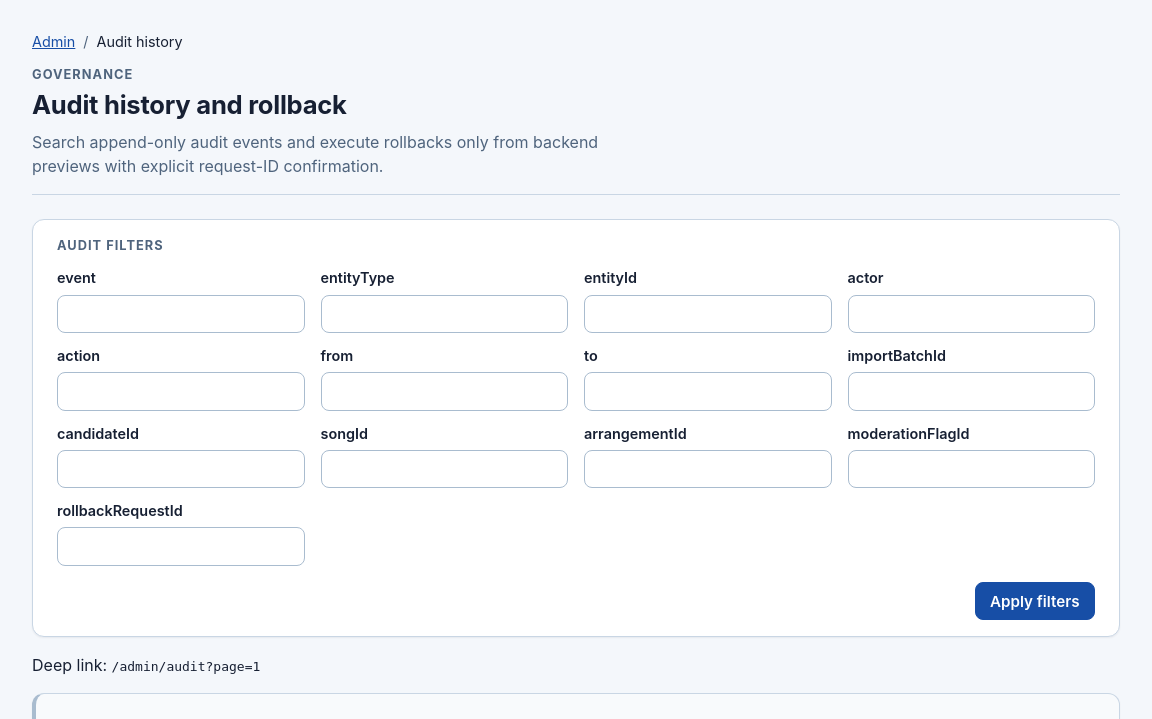
audit history and rollback workflows › creates backend rollback previews and gates execution by exact rollback request id
Type "x" into the field labelled "event". click: (181, 314)
box: [57,295,304,333]
(page scrolled)
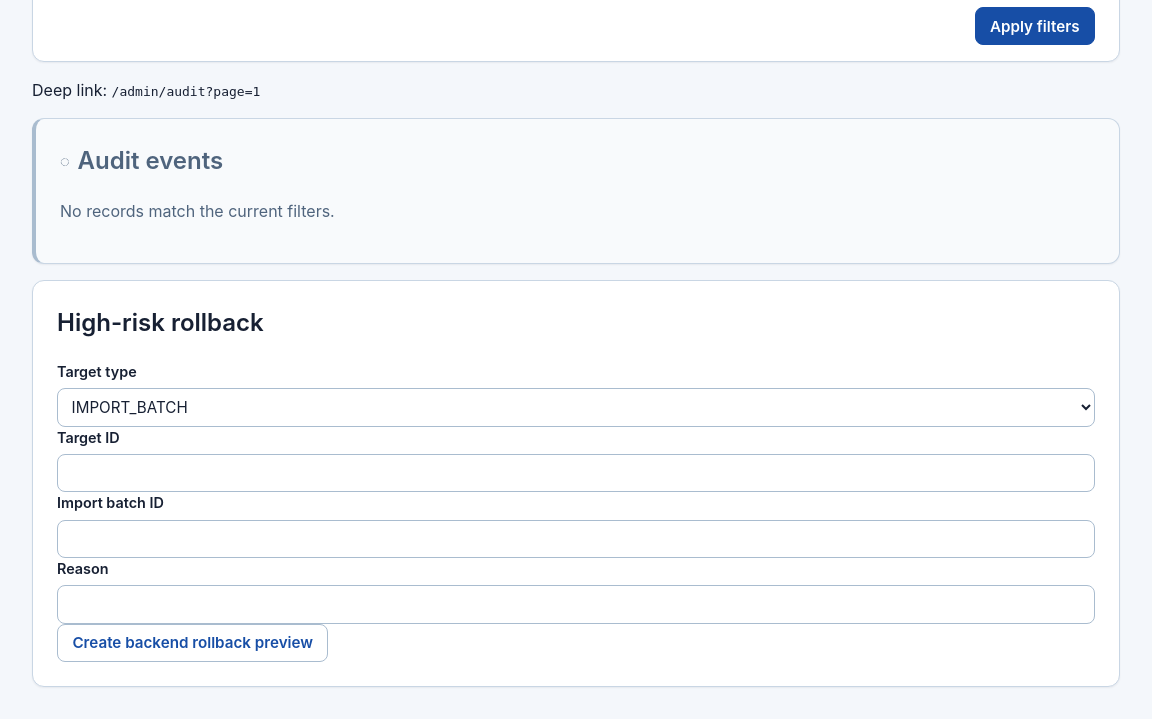
Click the button "Create backend rollback preview". click: (193, 643)
box: [57,624,328,662]
(page scrolled)
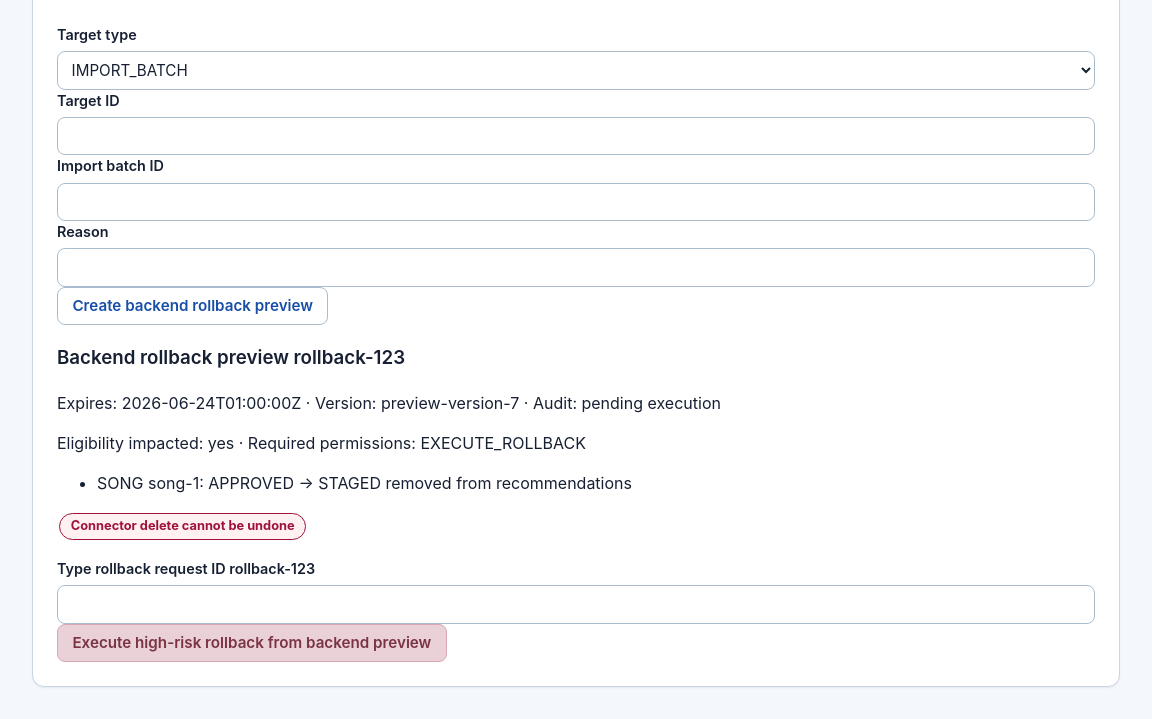
Result: the text "Backend rollback preview rollback-123" is shown at [57,346,405,369]
Result: the text "removed from recommendations" is shown at [386,473,632,493]
Result: the button "Execute high-risk rollback from backend preview" is disabled at [57,624,447,662]
Type "rollback-123" into the field labelled "Type rollback request ID rollback-123". click: (576, 604)
box: [57,585,1095,624]
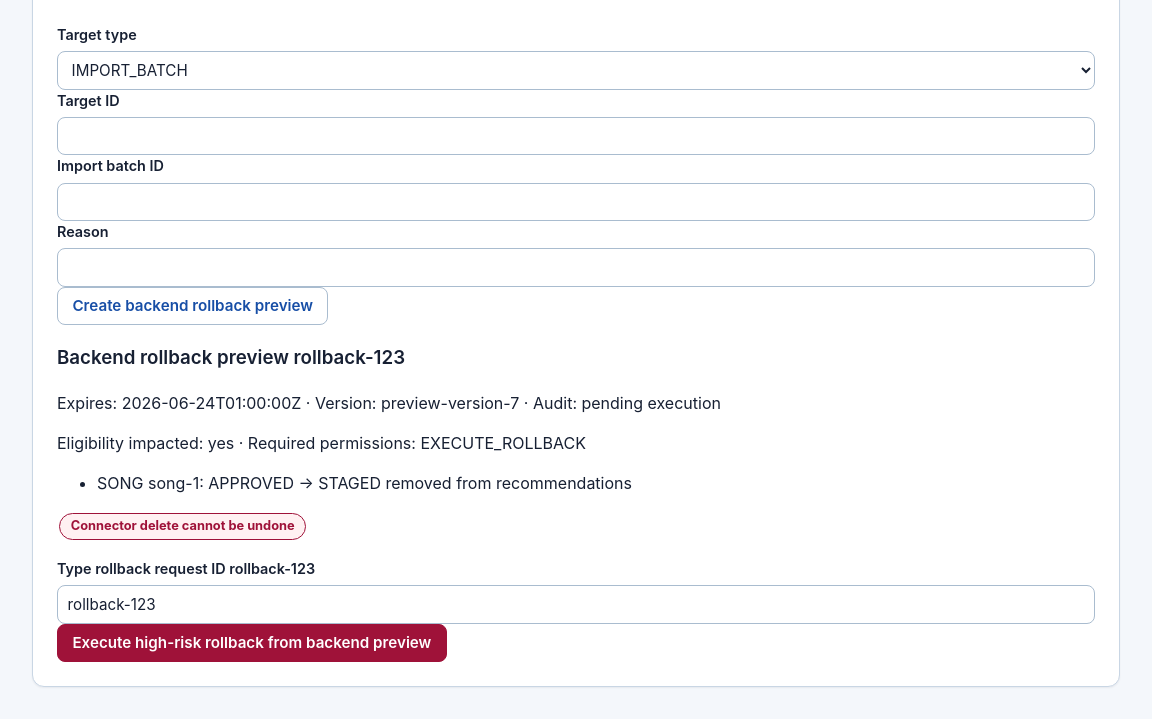
Click the button "Execute high-risk rollback from backend preview". click: (252, 643)
box: [57,624,447,662]
(page scrolled)
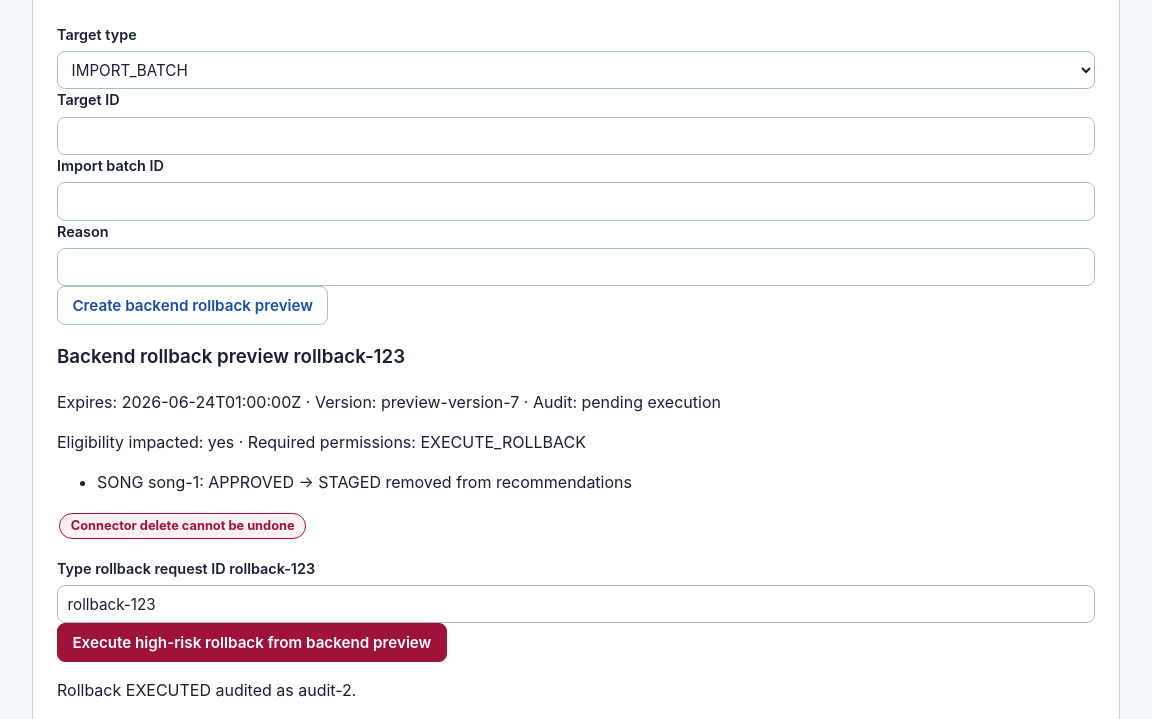
Result: the text "audit-2" is shown at [57,680,356,700]
